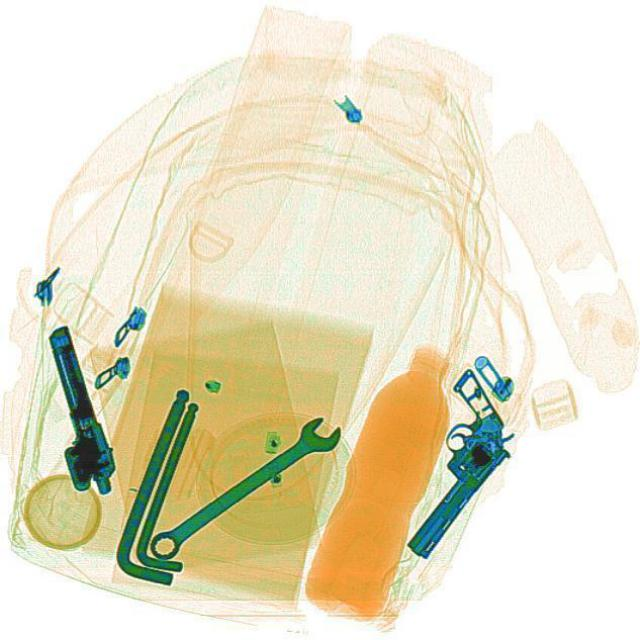Gun: (349, 367, 541, 563), (22, 320, 122, 500)
Wrench: (142, 407, 346, 567)
